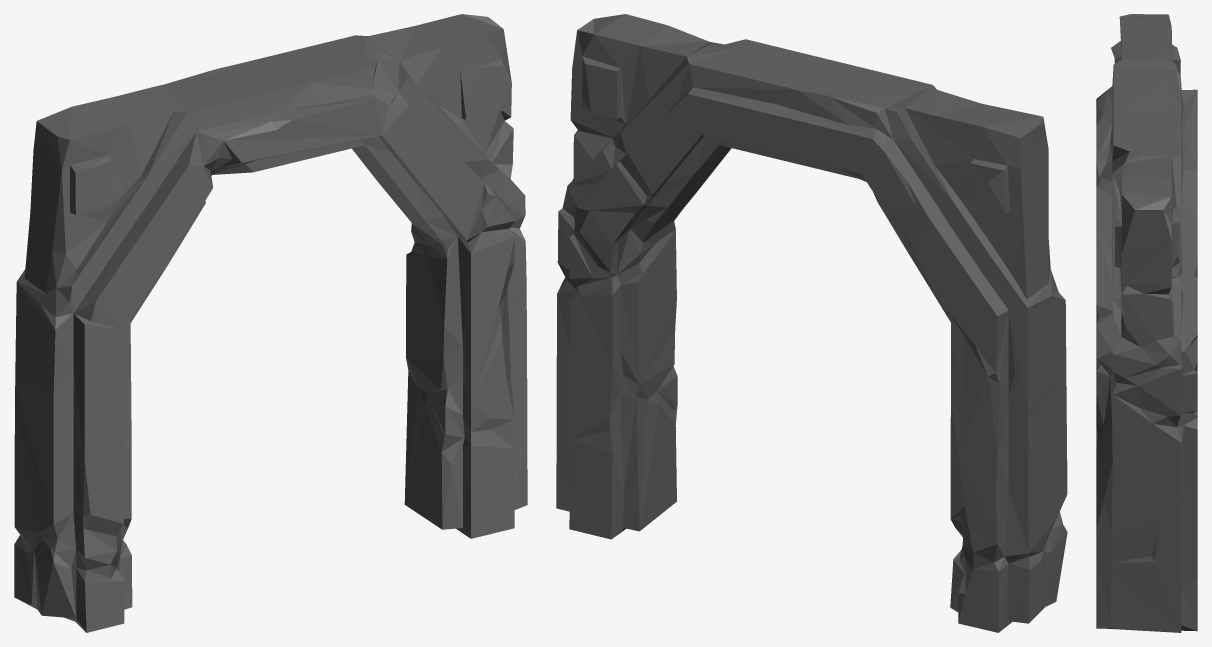
The model's file is SM_Env_Wall_Tunnel_Entrance_01.FBX.
3 views of the same model, side by side, from view 1: azimuth 30°, elevation 25°; view 2: azimuth 150°, elevation 25°; view 3: azimuth 270°, elevation 25° (orthographic). The views are drawn at different scales.
Visible parts, largest first — view 1: SM_Env_Wall_Tunnel_Entrance_01; view 2: SM_Env_Wall_Tunnel_Entrance_01; view 3: SM_Env_Wall_Tunnel_Entrance_01.
Part boxes in pixels (x1,y1,x2,y2): SM_Env_Wall_Tunnel_Entrance_01: (14, 14, 527, 632); SM_Env_Wall_Tunnel_Entrance_01: (556, 14, 1067, 632); SM_Env_Wall_Tunnel_Entrance_01: (1096, 14, 1197, 632).
Size of what is drawn, in the model's own units: 526 by 110 by 519.
